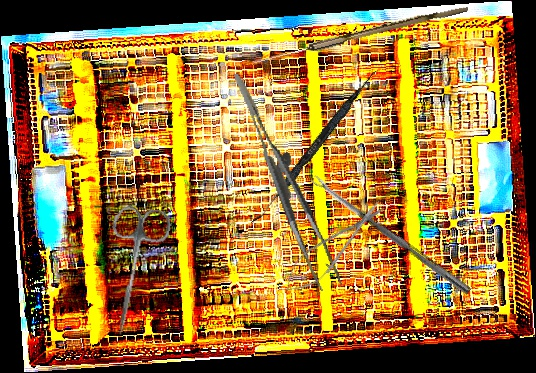Iris Scissors: (94, 203, 173, 340)
Micro Scissor: (275, 191, 394, 303)
Spatula Surgical: (250, 65, 379, 230)
Surgical Spoon: (310, 174, 473, 295), (251, 1, 469, 69)
Tissue Forceps: (233, 62, 343, 298)
